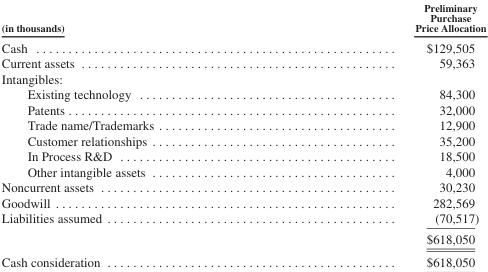table: (0, 0, 485, 269)
table column: (0, 0, 284, 269), (284, 0, 485, 269)
table column header: (0, 0, 485, 36)
table projected row header: (0, 70, 485, 86)
table row: (0, 0, 485, 36), (0, 228, 485, 250), (0, 36, 485, 55), (0, 250, 485, 269), (0, 210, 485, 228), (0, 70, 485, 86), (0, 101, 485, 117), (0, 132, 485, 148), (0, 163, 485, 179), (0, 194, 485, 210), (0, 55, 485, 70), (0, 86, 485, 101), (0, 117, 485, 132), (0, 148, 485, 163), (0, 179, 485, 194)
